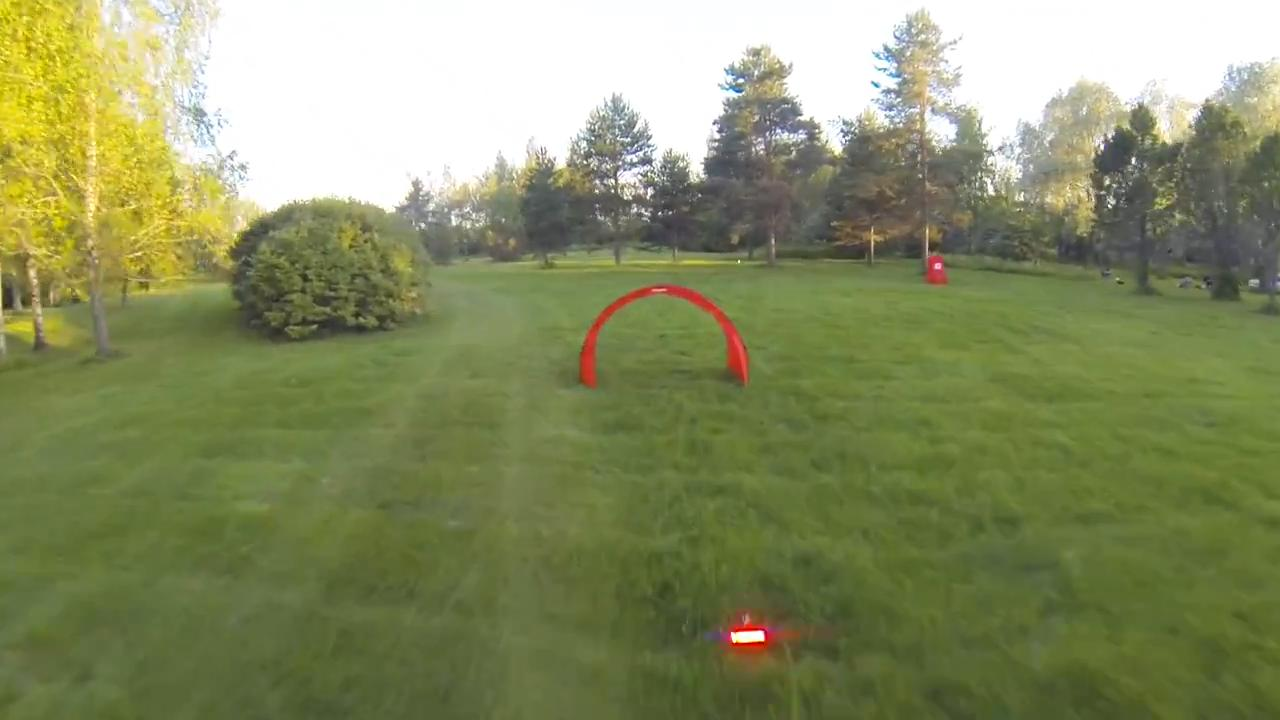gate: (575, 282, 750, 388)
